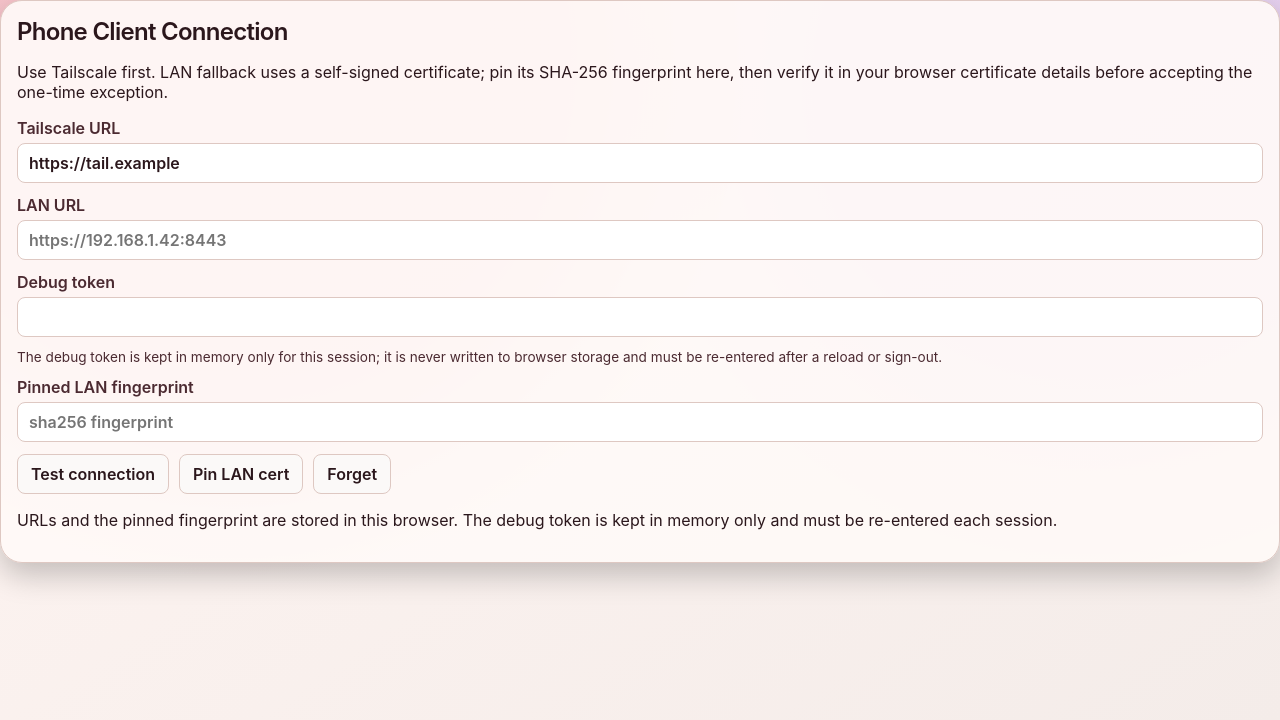
Test: PhoneClientConnection › forgets persisted connection settings and the in-memory token
The width and height of the screenshot is (1280, 720).
In the password field labelled "Debug token": {"x": 640, "y": 317} left=17, top=297, right=1263, bottom=337, type "secret-token"
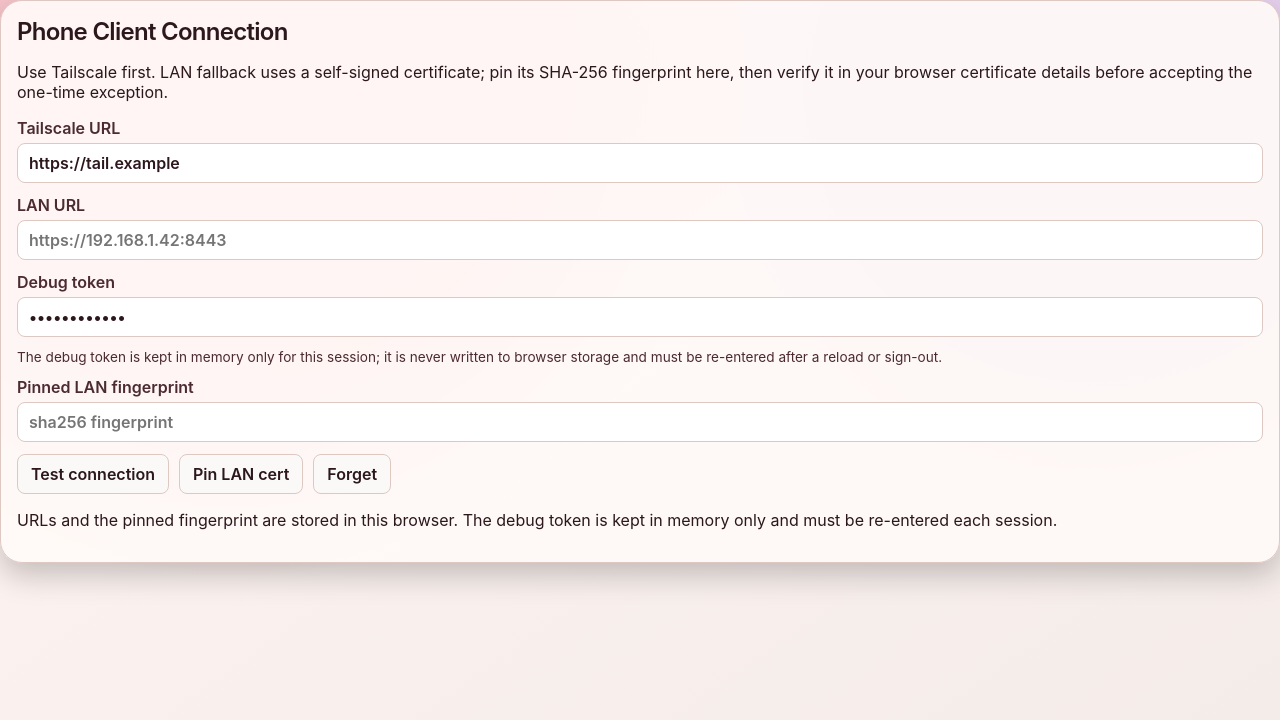
Click the button "Forget": {"x": 352, "y": 474} left=313, top=454, right=391, bottom=494
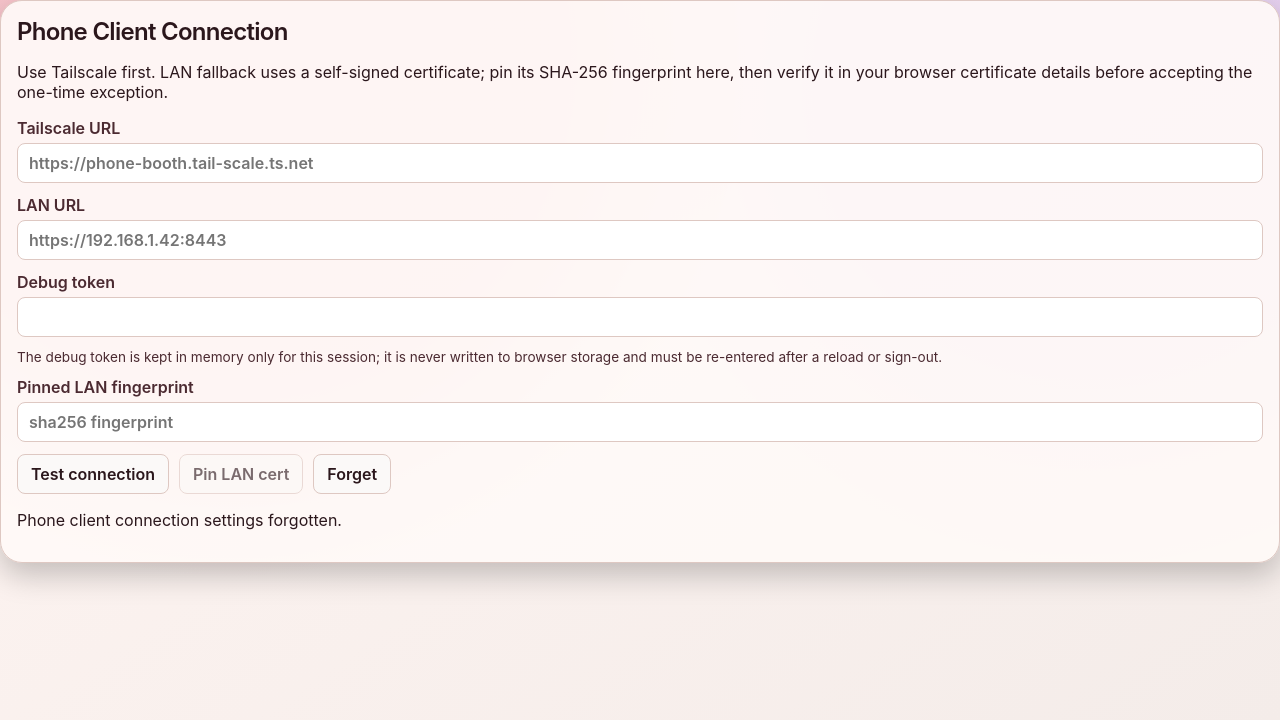
Check: the field labelled "Tailscale URL" is empty, box left=17, top=143, right=1263, bottom=183
